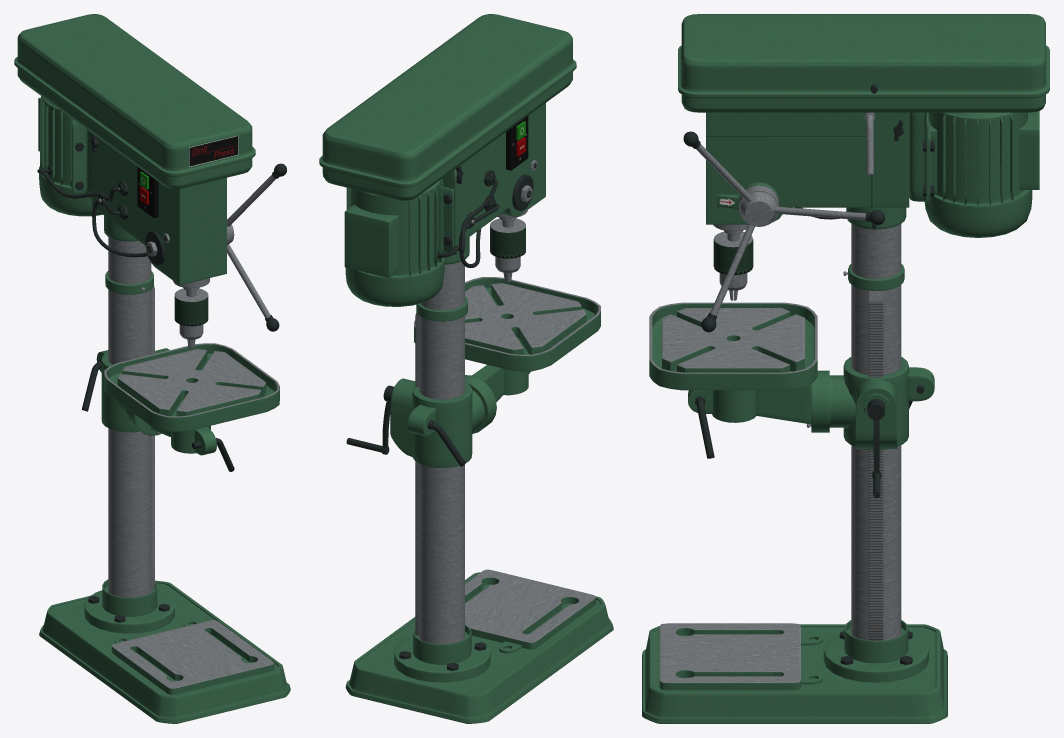
File: machine-tool.fbx
3 views of the same model, side by side, from view 1: azimuth 30°, elevation 25°; view 2: azimuth 150°, elevation 25°; view 3: azimuth 270°, elevation 25° (orthographic). The views are drawn at different scales.
Parts seen in each view (by area): view 1: 13604_Drill_Press_v1_L2, 13604_Drill_Press_v1_L2.002, 13604_Drill_Press_v1_L2.001; view 2: 13604_Drill_Press_v1_L2, 13604_Drill_Press_v1_L2.002; view 3: 13604_Drill_Press_v1_L2, 13604_Drill_Press_v1_L2.001, 13604_Drill_Press_v1_L2.002.
Boxes of the visible parts, <box> form: 13604_Drill_Press_v1_L2: <box>14,14,290,723</box>; 13604_Drill_Press_v1_L2.002: <box>174,288,208,348</box>; 13604_Drill_Press_v1_L2.001: <box>227,163,286,331</box>; 13604_Drill_Press_v1_L2: <box>319,14,613,723</box>; 13604_Drill_Press_v1_L2.002: <box>490,218,525,282</box>; 13604_Drill_Press_v1_L2: <box>642,14,1049,723</box>; 13604_Drill_Press_v1_L2.001: <box>683,131,884,332</box>; 13604_Drill_Press_v1_L2.002: <box>713,231,753,300</box>.
Bounding box in the file's own units: 4899 × 16945 × 9642.
